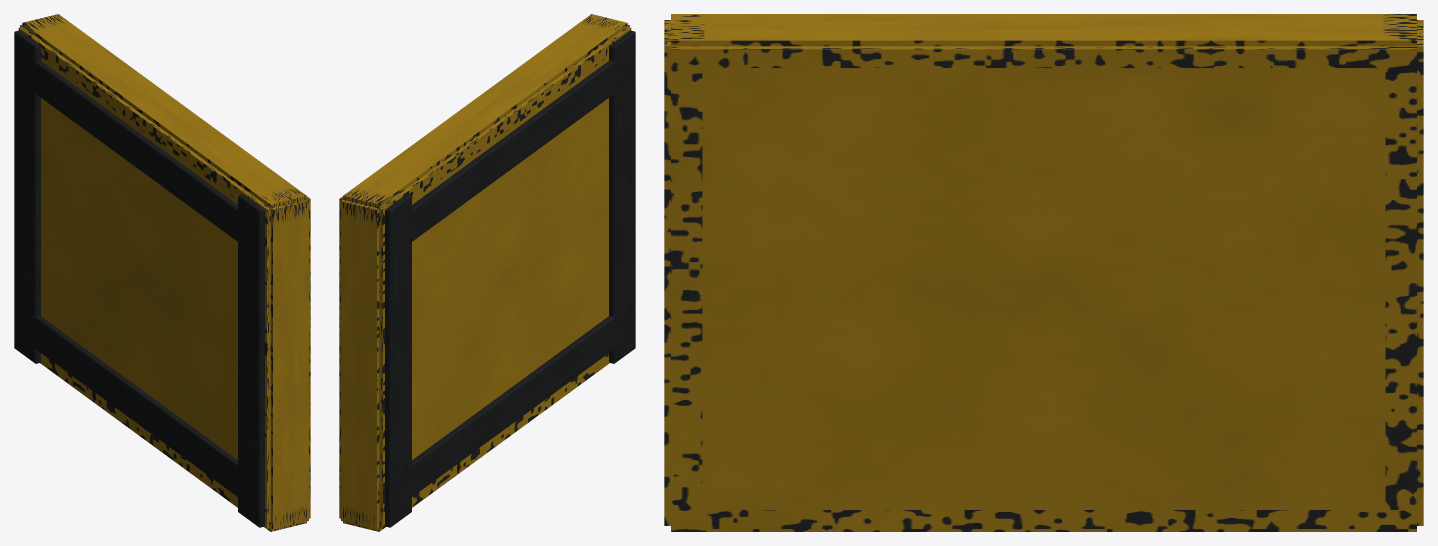
File: RailServiceGate.fbx
The picture shows the model from 3 angles, left to right: view 1: azimuth 30°, elevation 25°; view 2: azimuth 150°, elevation 25°; view 3: azimuth 270°, elevation 25°; orthographic projection. The views are drawn at different scales.
Parts seen in each view (by area): view 1: RailServiceGate.001; view 2: RailServiceGate.001; view 3: RailServiceGate.001.
Boxes of the visible parts, x1,y1,x2,y2 form: RailServiceGate.001: (14, 14, 310, 531); RailServiceGate.001: (339, 14, 635, 531); RailServiceGate.001: (664, 14, 1423, 531).
Bounding box in the file's own units: 0.16 × 1 × 1.4.
